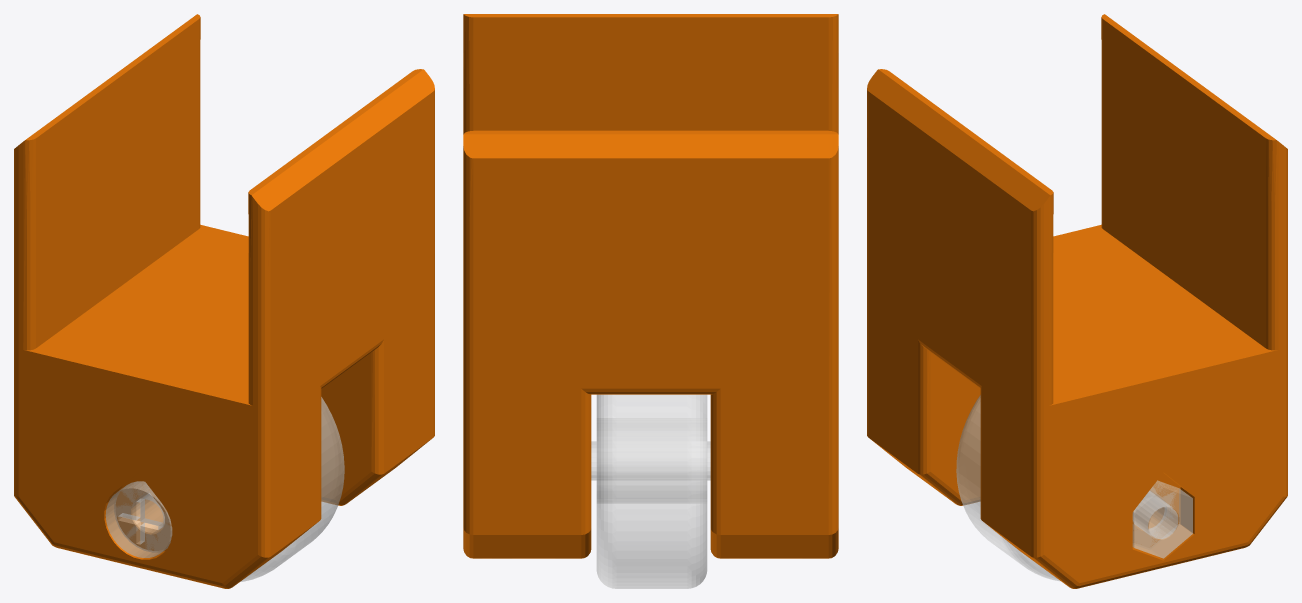
Rendered from StandingDeskStabilizer.glb.
3 views of the same model, side by side, from view 1: azimuth 30°, elevation 25°; view 2: azimuth 150°, elevation 25°; view 3: azimuth 270°, elevation 25° (orthographic). The views are drawn at different scales.
Visible parts, largest first — view 1: Body1, Body2, Body4; view 2: Body1, Body4, Body2; view 3: Body1, Body2, Body4.
Part boxes in pixels (x1,y1,x2,y2): Body1: (14,14,434,588); Body2: (105,481,172,557); Body4: (240,397,344,581); Body1: (463,14,838,558); Body4: (596,394,707,588); Body2: (591,441,710,480); Body1: (867,14,1287,588); Body2: (1132,480,1192,558); Body4: (956,395,1060,581).
Bounding box in the file's own units: 47.37 × 55 × 45.39.
